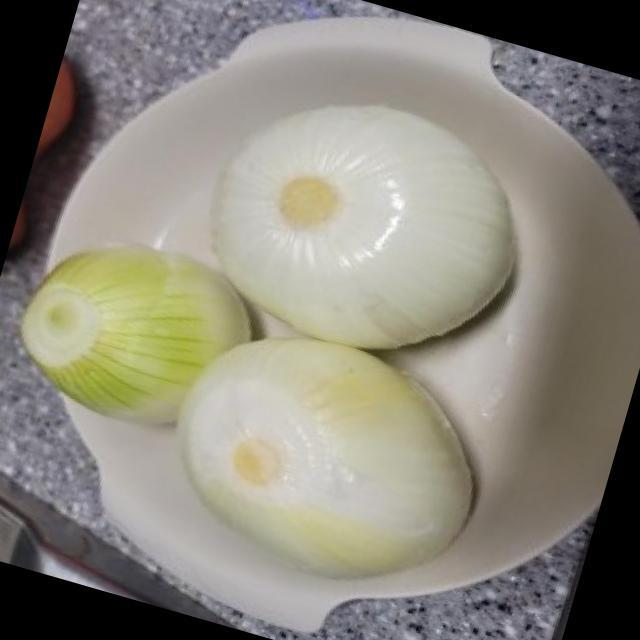Onion: (217, 106, 521, 344), (181, 341, 479, 574), (23, 241, 246, 425)
